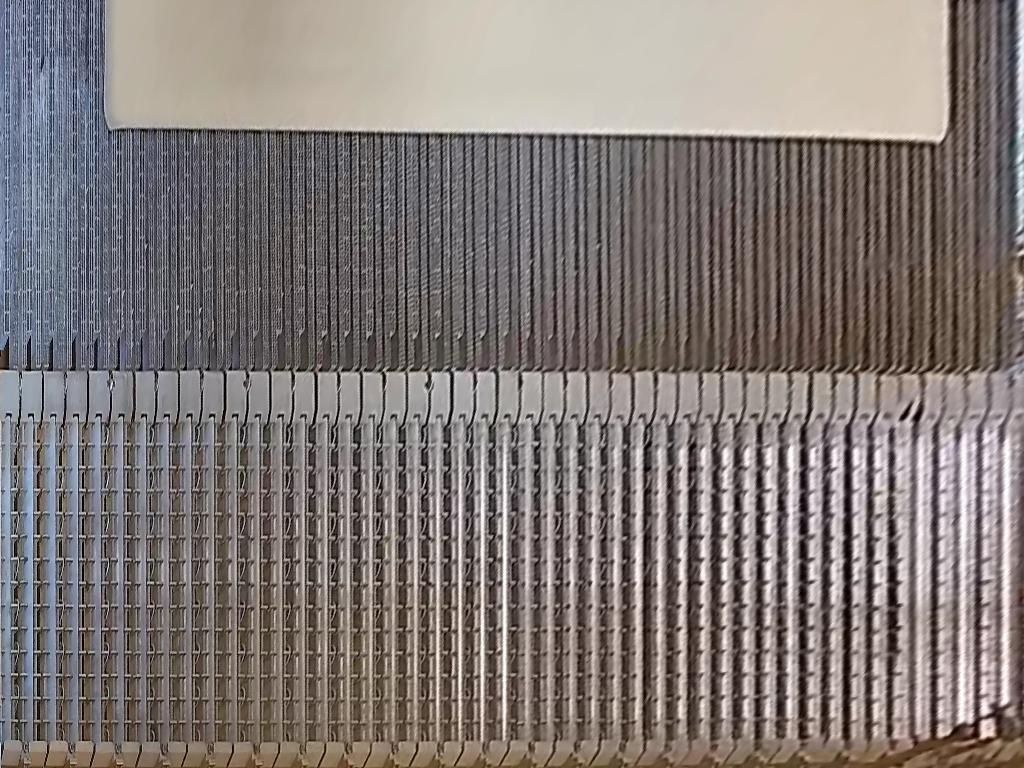steel: (103, 1, 953, 144)
